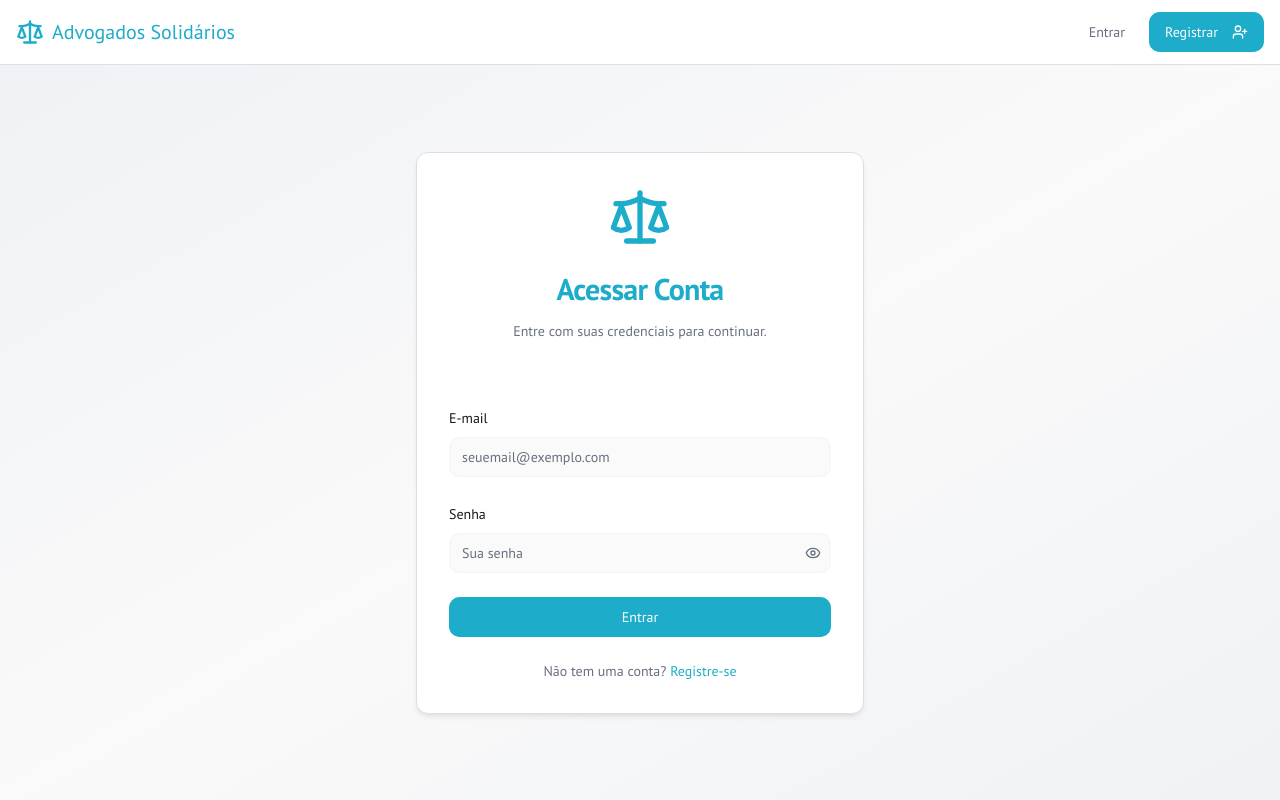
Test: Advogado dando Lance na Proposta › Deve preencher email e senha e clicar em Entrar
Type "aa" into the field named "email".
click(640, 457); type("aa")  # box x1=449 y1=437 x2=831 y2=477
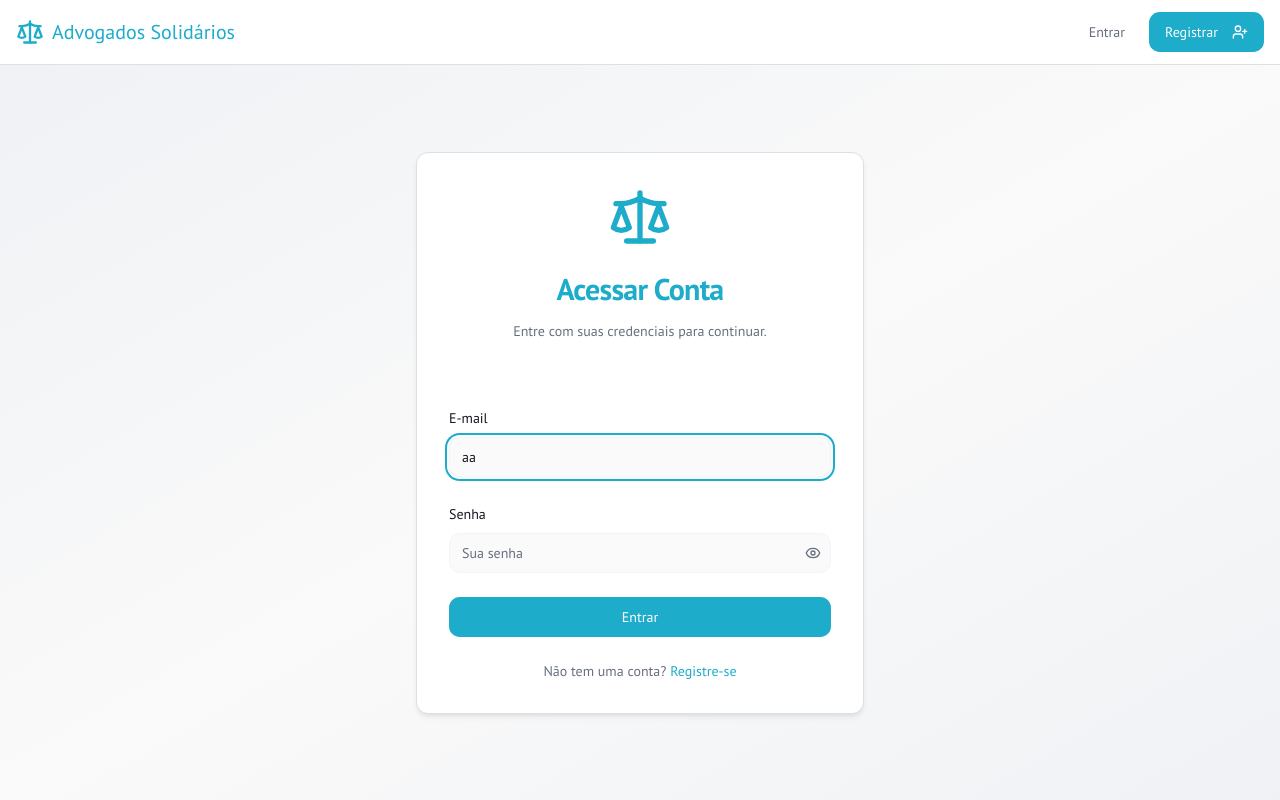
Type "12" into the password field named "password".
click(640, 553); type("12")  # box x1=449 y1=533 x2=831 y2=573
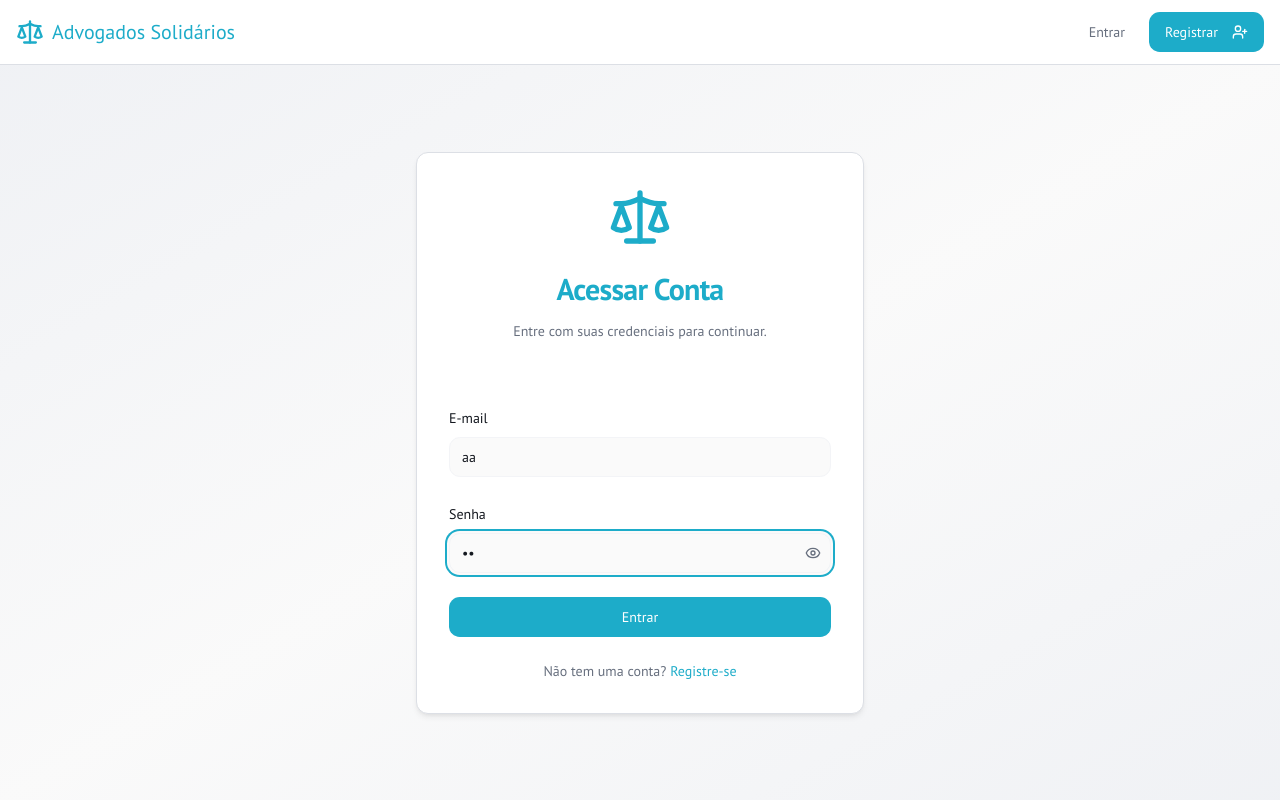
Expected: the text "Entrar" is enabled
Click the button "Entrar".
click(640, 617)  # box x1=449 y1=597 x2=831 y2=637
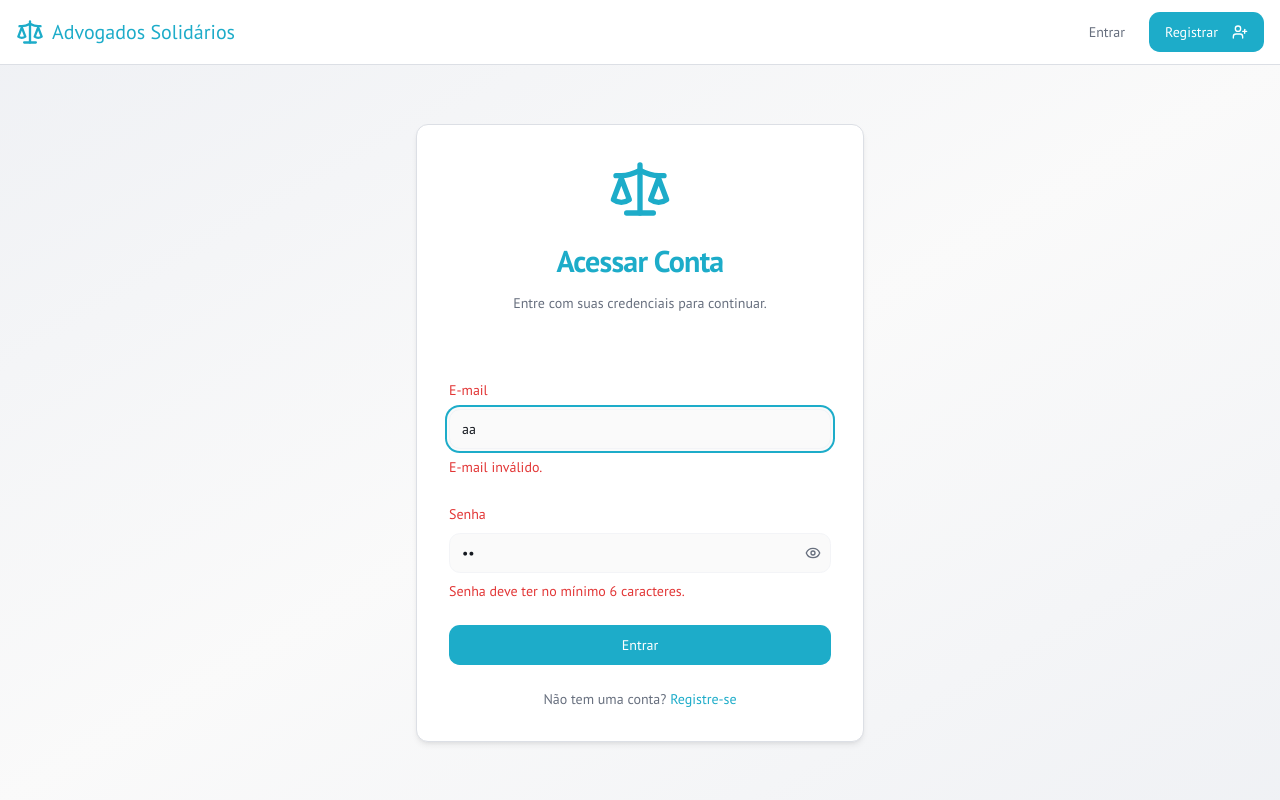
Expected: the text "E-mail inválido." is shown, x1=449 y1=458 x2=542 y2=476
Expected: the text "Senha deve ter no mínimo 6 caracteres." is shown, x1=449 y1=582 x2=685 y2=600
